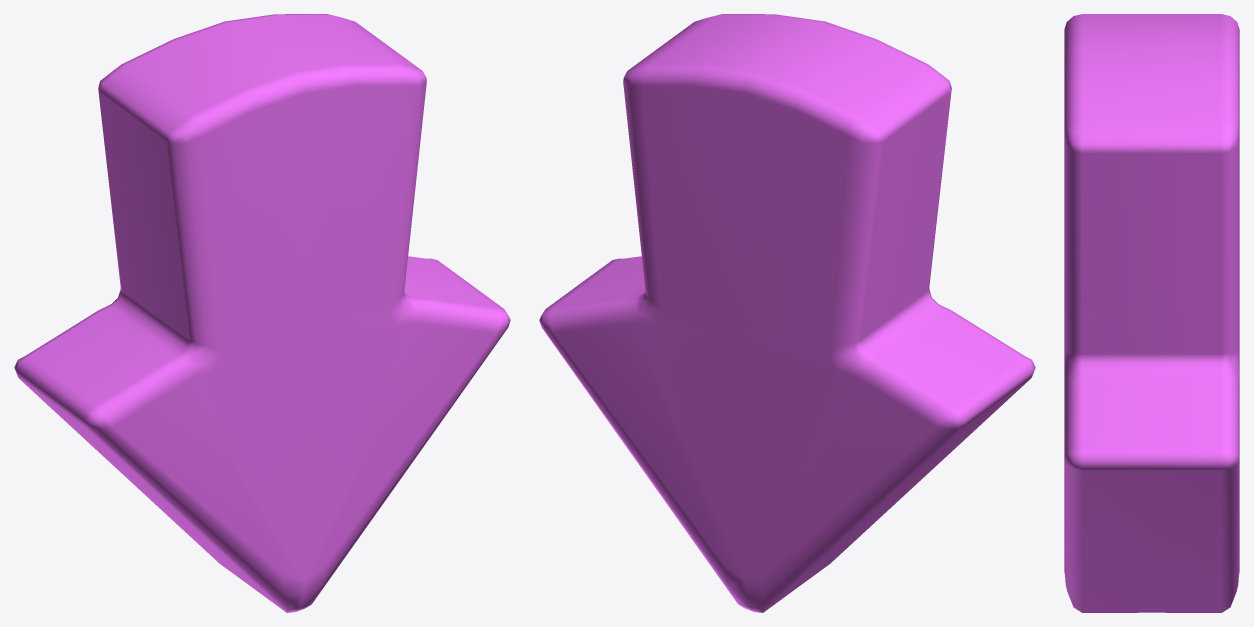
3 views of the same model, side by side, from view 1: azimuth 30°, elevation 25°; view 2: azimuth 150°, elevation 25°; view 3: azimuth 270°, elevation 25° (orthographic). The views are drawn at different scales.
Parts seen in each view (by area): view 1: jiantou; view 2: jiantou; view 3: jiantou.
Boxes of the visible parts, left/top/right/bottom form: jiantou: left=14, top=14, right=510, bottom=612; jiantou: left=539, top=14, right=1035, bottom=612; jiantou: left=1064, top=14, right=1239, bottom=612.
Bounding box in the file's own units: 40.47 × 49.13 × 13.92.
